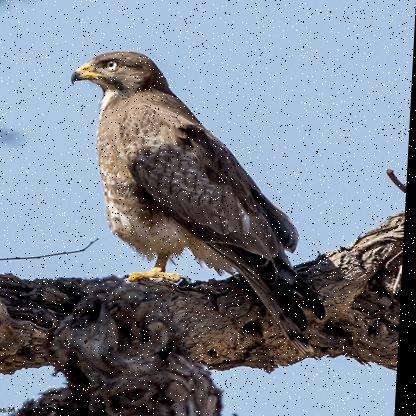Burung: (57, 48, 355, 334)
